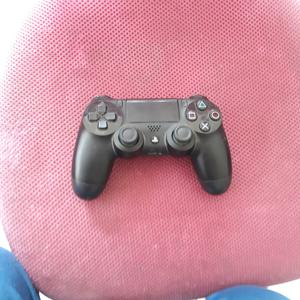controller: (71, 96, 232, 200)
